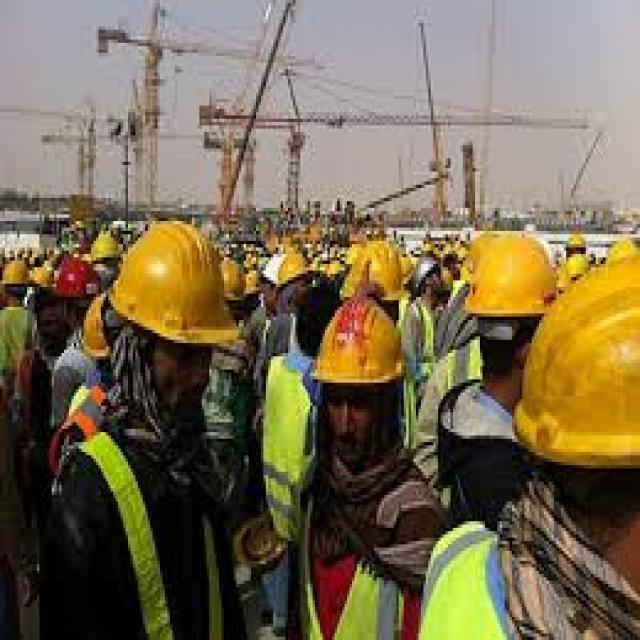Reflective-Jacket: (64, 402, 229, 640), (421, 511, 640, 640), (292, 493, 428, 638), (259, 354, 318, 530)
Safety-Helmet: (509, 237, 640, 484), (96, 208, 251, 363), (453, 221, 564, 330), (307, 294, 408, 399), (349, 232, 416, 313), (254, 234, 322, 307), (404, 241, 453, 300), (51, 260, 104, 303), (77, 230, 124, 268), (0, 251, 34, 297)
